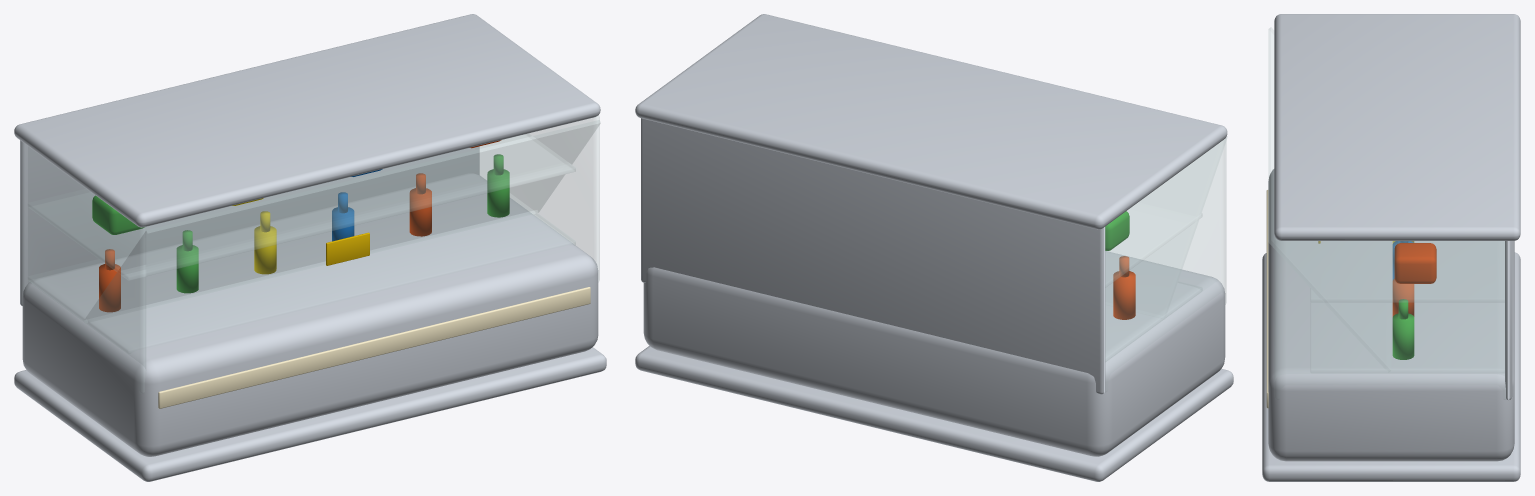
File: display_case.glb
The picture shows the model from 3 angles, left to right: view 1: azimuth 30°, elevation 25°; view 2: azimuth 150°, elevation 25°; view 3: azimuth 270°, elevation 25°; orthographic projection. The views are drawn at different scales.
Parts seen in each view (by area): view 1: cbase, ctop, arc_glass, shelf.001, cside, cback, shelf, cplinth, cstrip, cside.001, stand, Cylinder.002 (+6 smaller); view 2: cback, ctop, cbase, cside, cplinth, arc_glass, shelf.001, Cylinder, pack; view 3: ctop, cbase, cside.001, shelf.001, cplinth, arc_glass, pack.003, cback, Cylinder.010, cstrip, Cylinder.008.
Boxes of the visible parts, x1,y1,x2,y2 form: cbase: [22, 173, 598, 456]; ctop: [14, 14, 600, 227]; arc_glass: [84, 120, 600, 322]; shelf.001: [29, 134, 575, 279]; cside: [22, 142, 145, 392]; cback: [20, 140, 479, 305]; shelf: [29, 197, 575, 353]; cplinth: [14, 347, 606, 481]; cstrip: [158, 287, 590, 408]; cside.001: [480, 115, 599, 281]; stand: [326, 232, 369, 265]; Cylinder.002: [176, 245, 198, 293]; cback: [641, 118, 1105, 394]; ctop: [635, 14, 1227, 229]; cbase: [643, 251, 1225, 456]; cside: [1105, 138, 1226, 390]; cplinth: [635, 346, 1233, 481]; arc_glass: [1106, 136, 1227, 318]; shelf.001: [1106, 209, 1201, 286]; Cylinder: [1113, 271, 1135, 319]; pack: [1105, 211, 1129, 250]; ctop: [1274, 14, 1520, 240]; cbase: [1268, 169, 1514, 461]; cside.001: [1274, 238, 1506, 399]; shelf.001: [1311, 241, 1504, 301]; cplinth: [1262, 252, 1520, 481]; arc_glass: [1268, 27, 1390, 372]; pack.003: [1394, 243, 1436, 283]; cback: [1505, 241, 1512, 400]; Cylinder.010: [1392, 313, 1414, 359]; cstrip: [1266, 190, 1268, 408]; Cylinder.008: [1392, 279, 1414, 316].
Bounding box in the file's own units: 0.86 × 0.4675 × 0.43.
